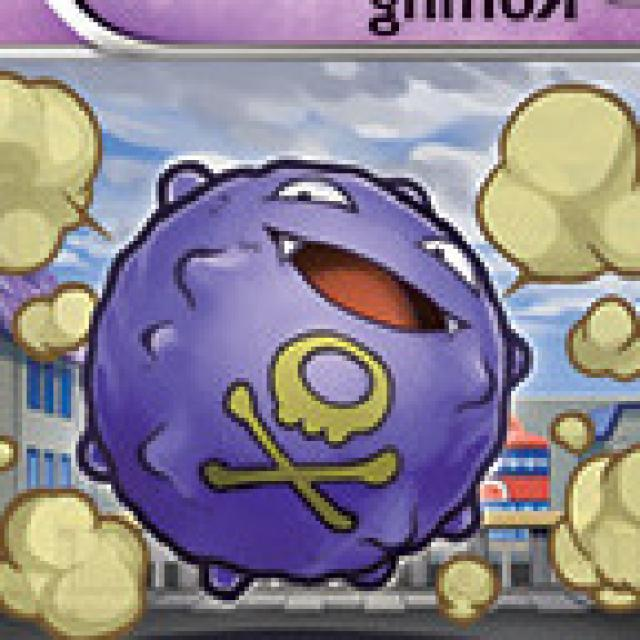Koffing: (78, 162, 517, 573)
